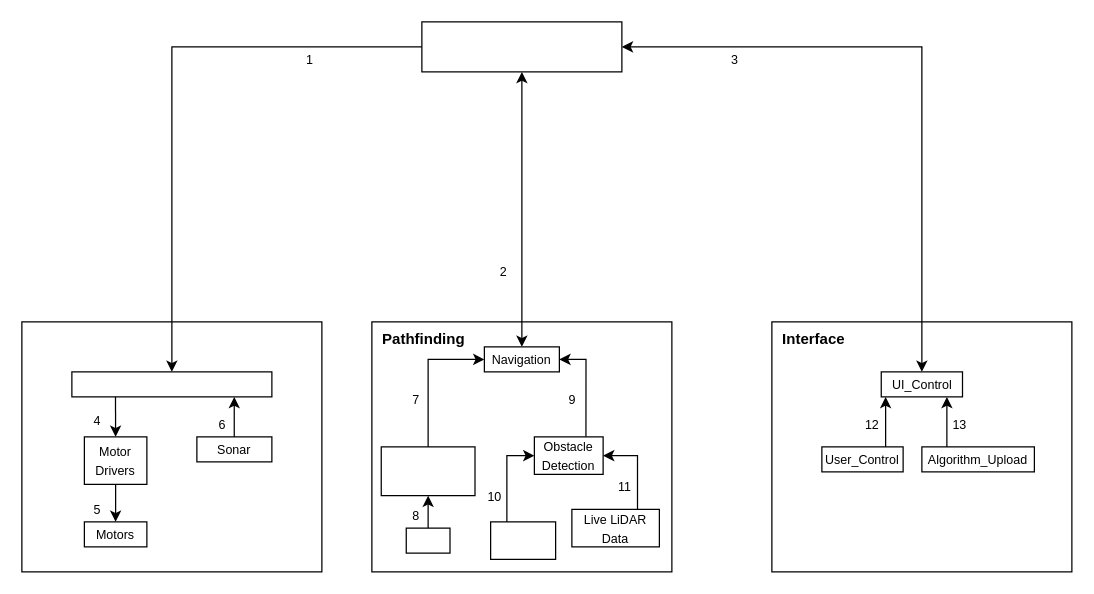
The diagram is 1094 pixels wide and 594 high, and some of its shapes have lost their labels. Each missing label, with the box of its shape:
Microcontroller: (71, 371, 272, 397)
Movement: (21, 321, 322, 572)
Raspberry Pi: (421, 21, 622, 72)
Robot Position Estimate: (380, 446, 475, 496)
Slam: (405, 527, 450, 553)
Static Map: (489, 521, 556, 559)
